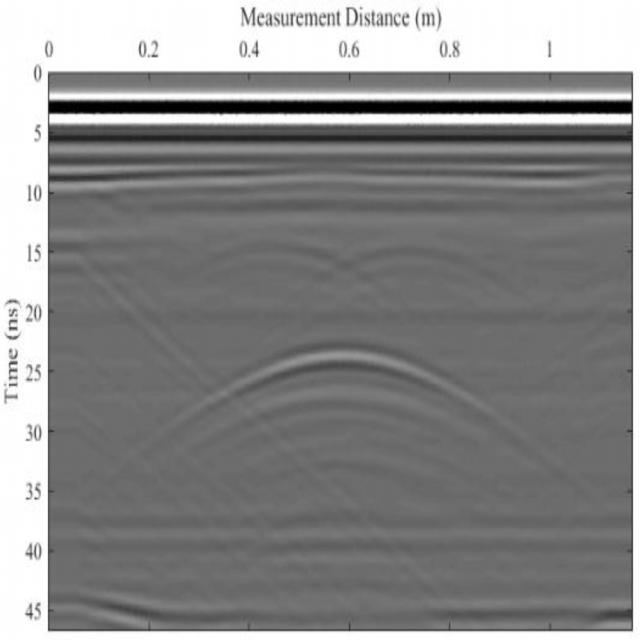hyperbola: (160, 323, 512, 472)
